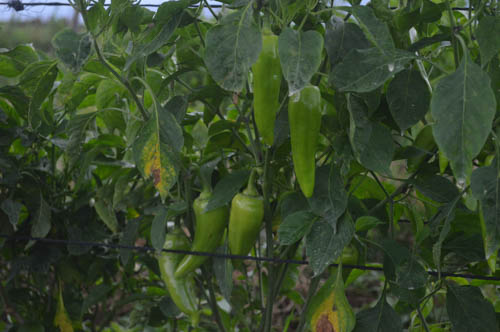ChiliPepper: (174, 197, 224, 274), (154, 234, 200, 311), (291, 86, 322, 197), (251, 32, 280, 145), (228, 196, 260, 263)
